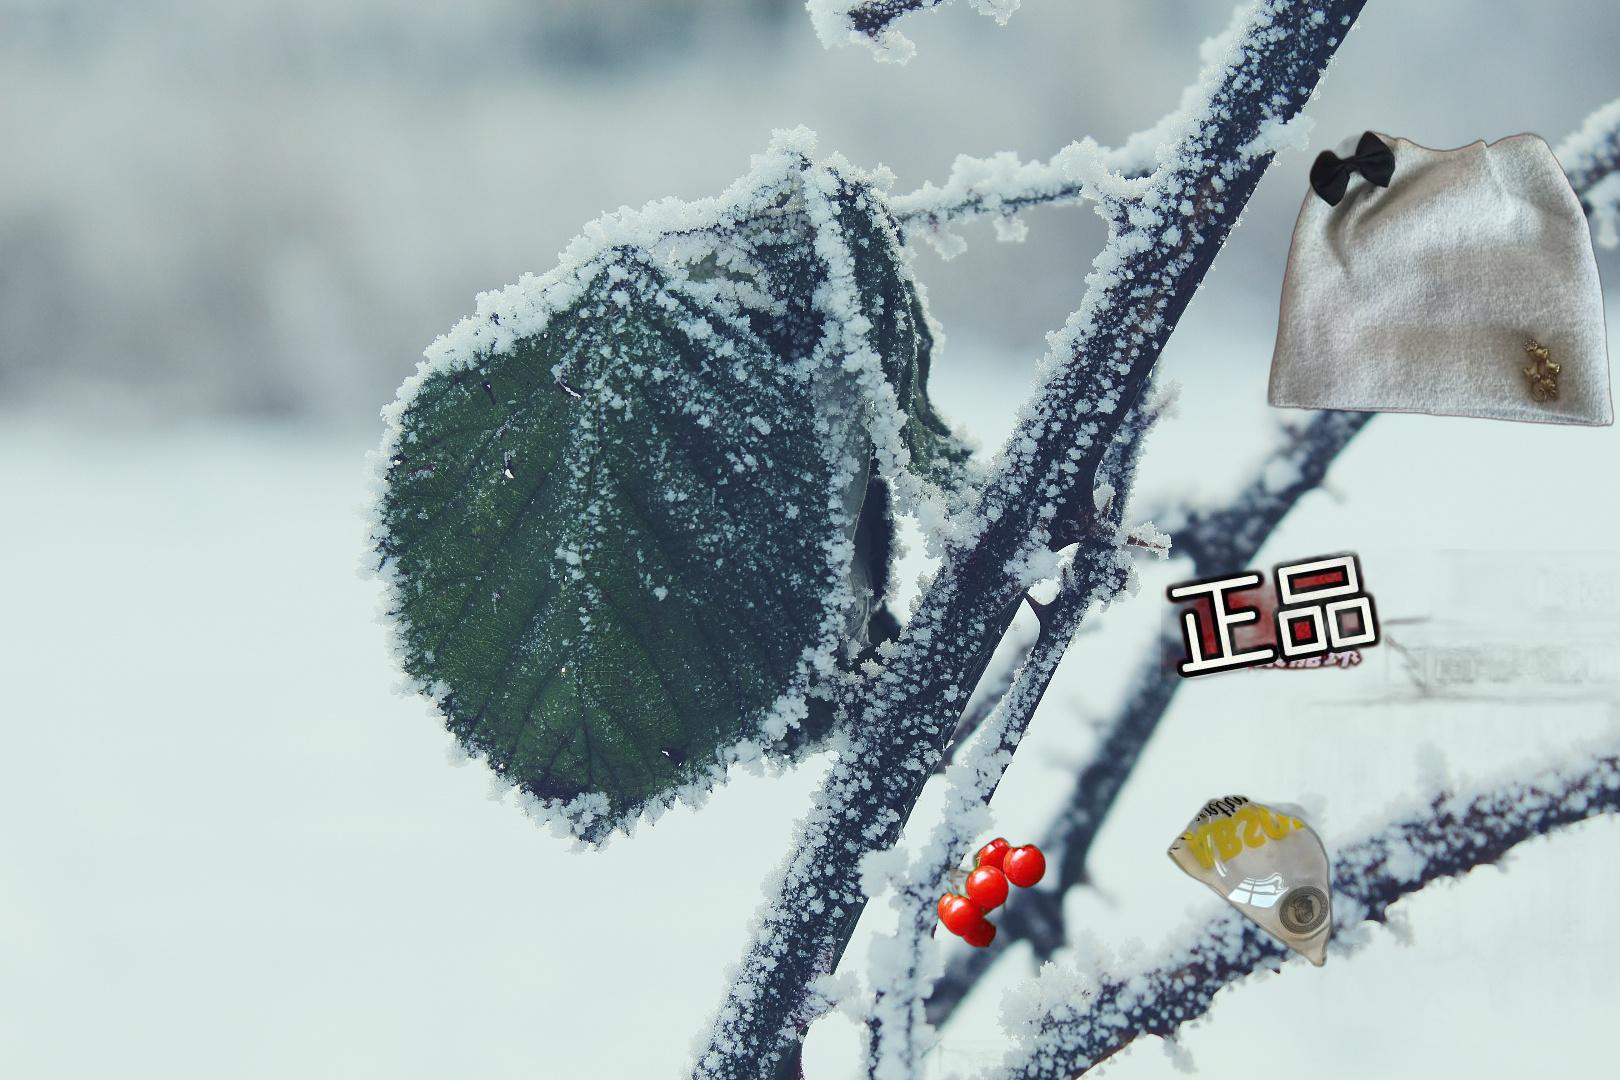battery: (1161, 548, 1620, 1080), (932, 1039, 1232, 1080)
biological: (934, 835, 1047, 950)
clothes: (1263, 116, 1616, 432)
glass: (1163, 788, 1338, 970)
